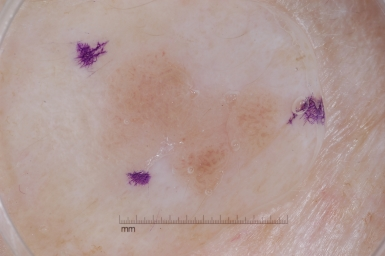seborrheic keratosis: (111, 54, 287, 164)
